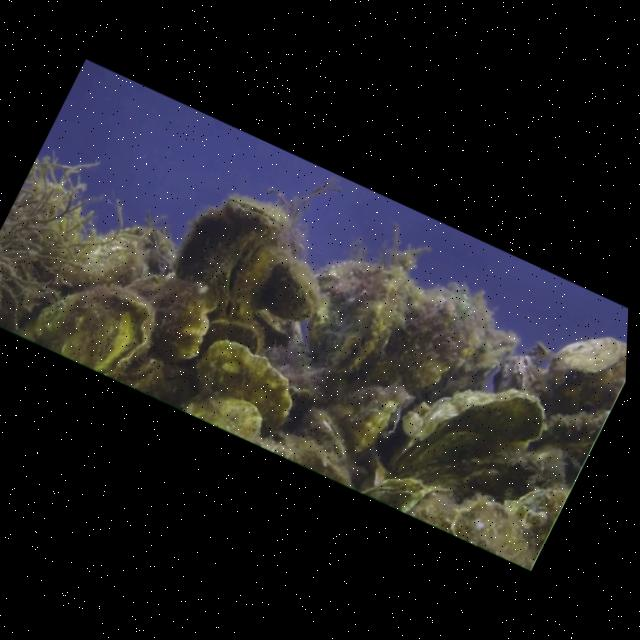Oyster-Closed: (25, 261, 166, 388), (200, 228, 286, 330), (483, 346, 569, 420), (180, 379, 272, 448), (325, 300, 394, 386), (292, 402, 364, 465), (357, 458, 429, 517), (399, 474, 468, 535), (218, 185, 293, 240), (345, 387, 402, 459)
Oyster-Indeterminate: (101, 254, 229, 374), (179, 331, 310, 440), (65, 204, 187, 318), (444, 488, 554, 574), (489, 475, 569, 569), (544, 317, 628, 404), (194, 308, 268, 377)
Oyster-Open: (387, 352, 560, 518)
